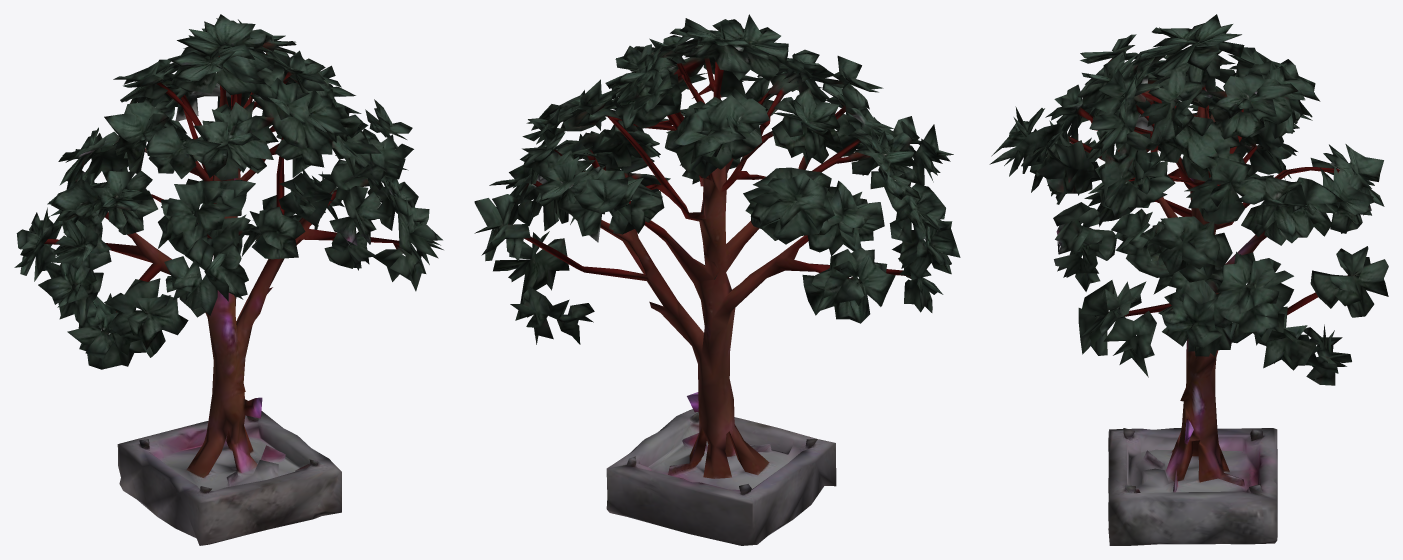
The model's file is 11_tree.glb.
3 views of the same model, side by side, from view 1: azimuth 30°, elevation 25°; view 2: azimuth 150°, elevation 25°; view 3: azimuth 270°, elevation 25° (orthographic). The views are drawn at different scales.
Parts seen in each view (by area): view 1: TREE_WITH_PLANTER; view 2: TREE_WITH_PLANTER; view 3: TREE_WITH_PLANTER.
Part boxes in pixels (x1,y1,x2,y2): TREE_WITH_PLANTER: [14, 14, 443, 545]; TREE_WITH_PLANTER: [474, 14, 960, 545]; TREE_WITH_PLANTER: [989, 14, 1388, 545].
Size of the model in its own units: 1.96 by 2.2 by 1.66.
1 material, 1 textured.
